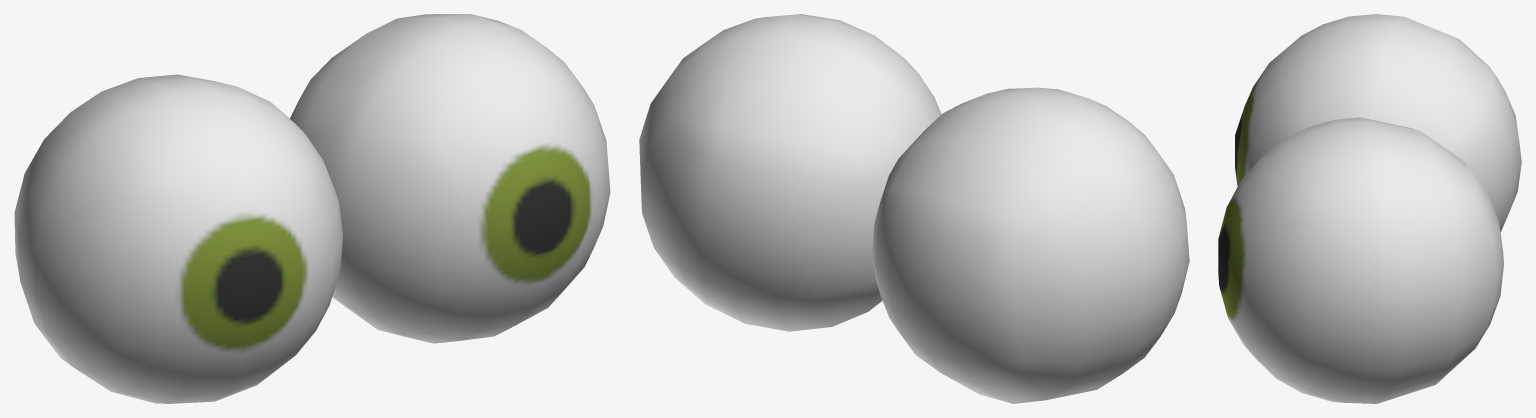
Rendered from Anim_Shoot_Bren_Retimed.fbx.
3 renders of one model, left to right at view 1: azimuth 30°, elevation 25°; view 2: azimuth 150°, elevation 25°; view 3: azimuth 270°, elevation 25°, orthographic. The views are drawn at different scales.
Visible parts, largest first — view 1: polySurface19, polySurface18; view 2: polySurface19, polySurface18; view 3: polySurface18, polySurface19.
Part boxes in pixels (x1,y1,x2,y2): polySurface19: (14,74,343,403); polySurface18: (290,14,610,343); polySurface19: (872,87,1189,403); polySurface18: (639,14,941,331); polySurface18: (1218,117,1503,403); polySurface19: (1235,14,1521,231).
Bounding box in the file's own units: 20.93 × 11.31 × 11.7.
